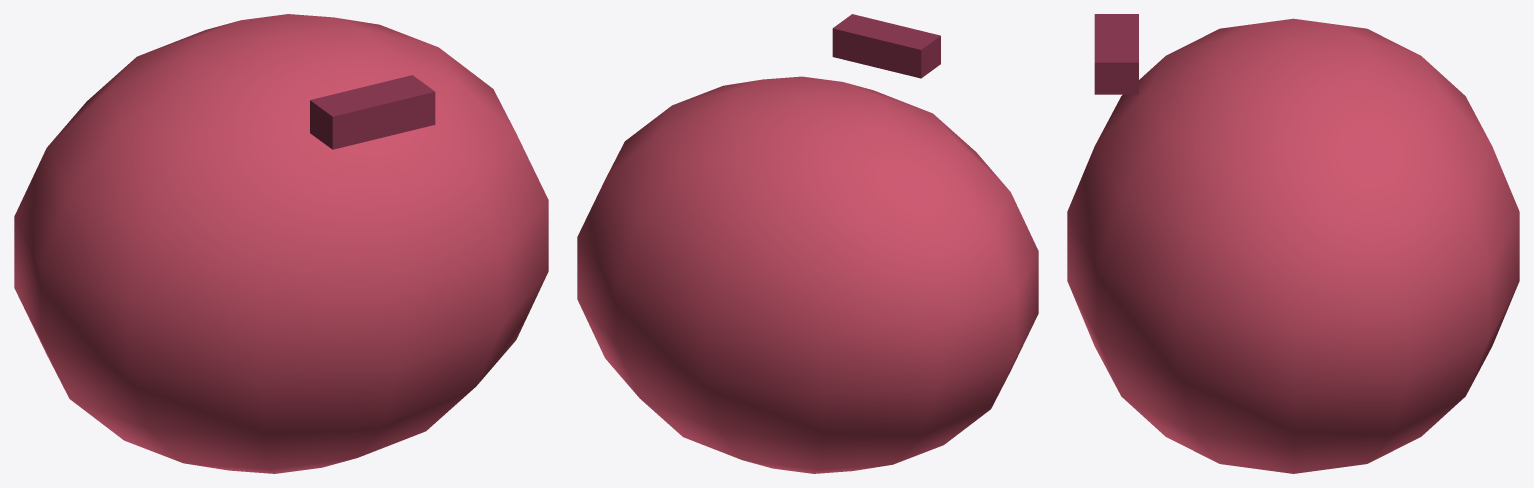
Rendered from grano-frejol.glb.
3 renders of one model, left to right at view 1: azimuth 30°, elevation 25°; view 2: azimuth 150°, elevation 25°; view 3: azimuth 270°, elevation 25°, orthographic. The views are drawn at different scales.
Parts seen in each view (by area): view 1: cuerpo, raya; view 2: cuerpo, raya; view 3: cuerpo, raya.
Part boxes in pixels (x1,y1,x2,y2): cuerpo: (14, 14, 548, 473); raya: (310, 75, 435, 149); cuerpo: (577, 76, 1038, 473); raya: (832, 14, 940, 78); cuerpo: (1067, 18, 1519, 473); raya: (1094, 14, 1138, 94).
Size of the model in its own units: 0.1221 by 0.102 by 0.1024.
